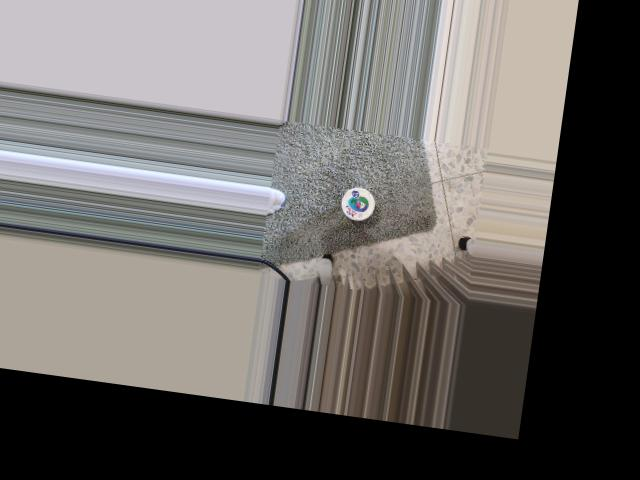cotage: (340, 184, 378, 223)
